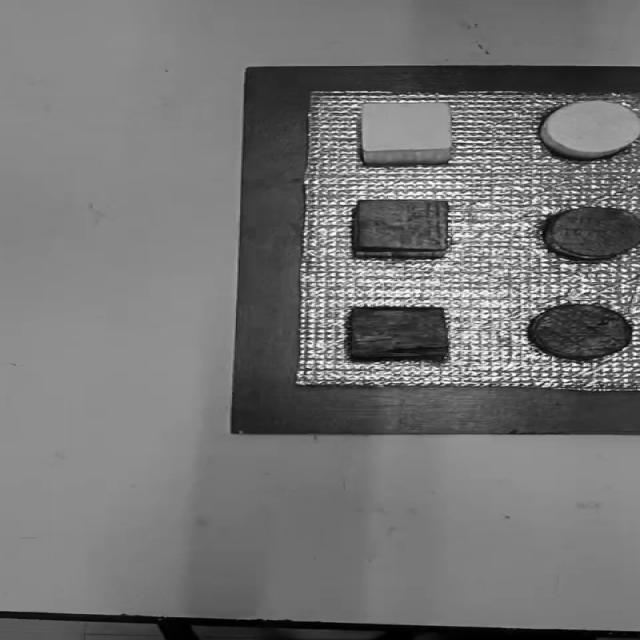bcircle: (526, 304, 634, 362)
bcube: (346, 306, 451, 361)
rcircle: (543, 206, 640, 260)
rcube: (353, 199, 449, 257)
wb: (295, 92, 640, 390)
ycircle: (537, 100, 640, 160)
ycube: (358, 100, 452, 156)
